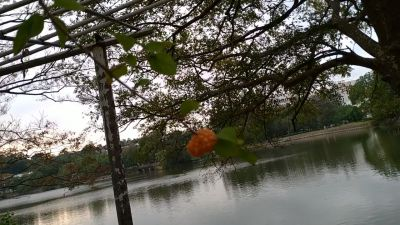eggs: (185, 125, 218, 159)
